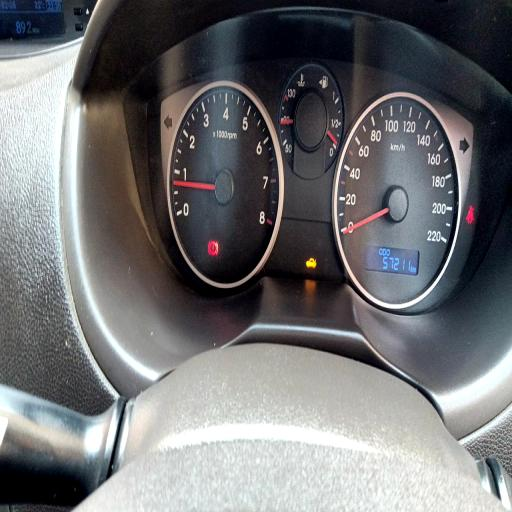belt: (466, 205, 474, 224)
brake_system_fault: (208, 241, 218, 256)
tachometer: (168, 81, 284, 288)
